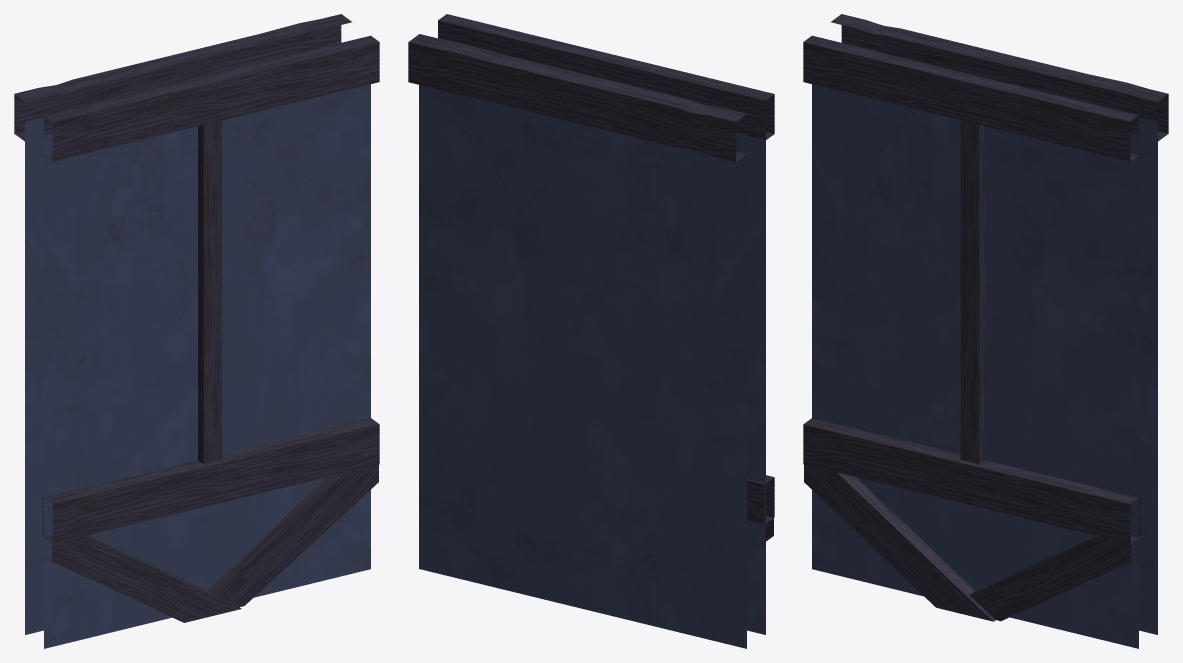
3 views of the same model, side by side, from view 1: azimuth 30°, elevation 25°; view 2: azimuth 150°, elevation 25°; view 3: azimuth 330°, elevation 25° (orthographic).
Parts seen in each view (by area): view 1: Wall_Plaster_Straight; view 2: Wall_Plaster_Straight; view 3: Wall_Plaster_Straight.
Part boxes in pixels (left/top/right/bottom): Wall_Plaster_Straight: left=14, top=14, right=379, bottom=648; Wall_Plaster_Straight: left=408, top=14, right=774, bottom=648; Wall_Plaster_Straight: left=803, top=14, right=1168, bottom=648.
Bounding box in the file's own units: 2 × 3.12 × 0.4065.
2 materials, 2 textured.
